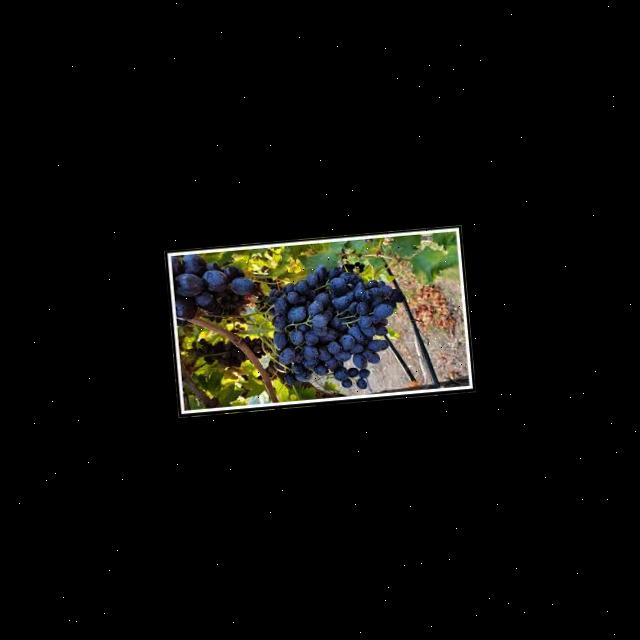grape: (263, 256, 412, 396), (170, 248, 261, 326)
